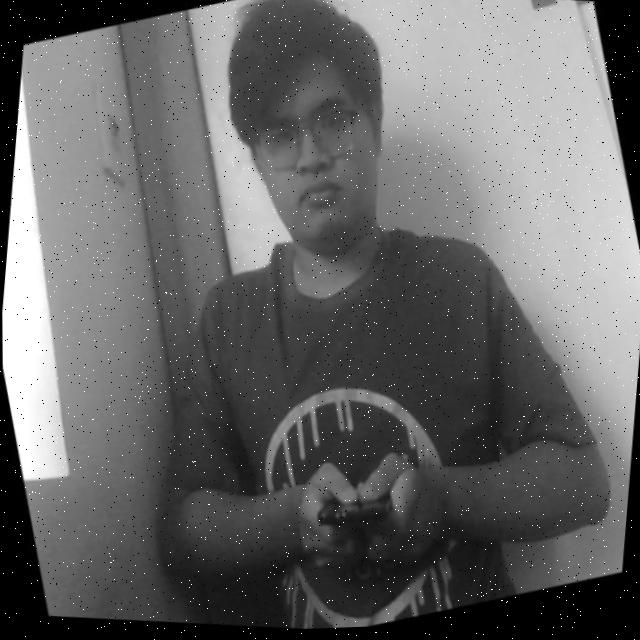phone: (299, 459, 422, 580)
